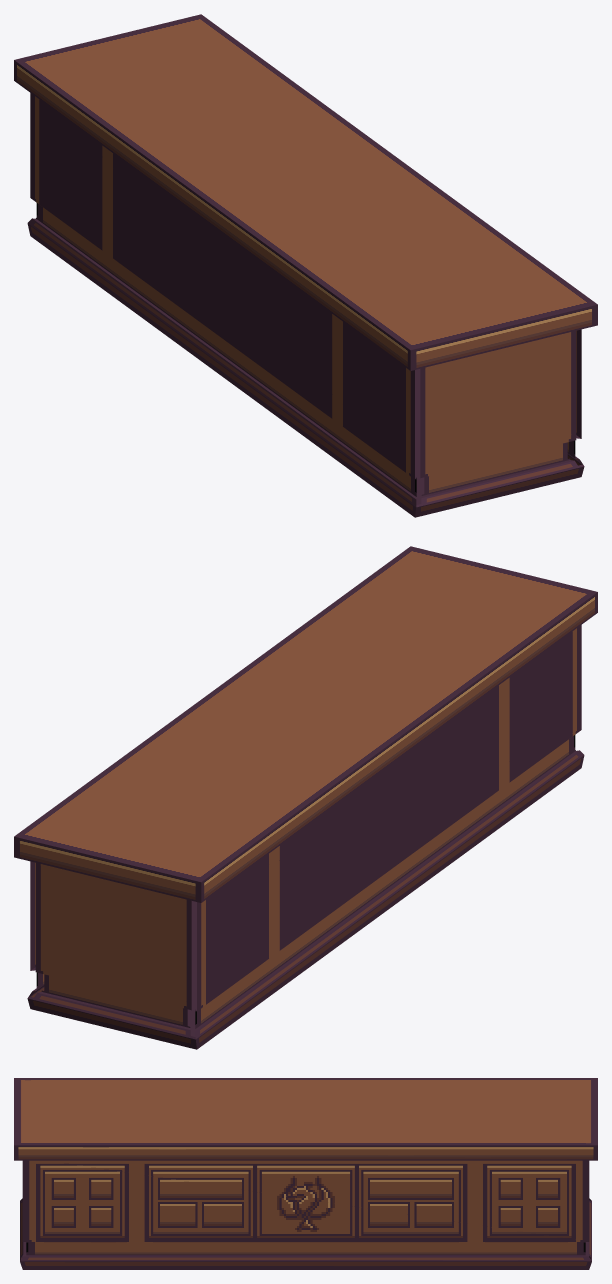
The model's file is frontDesk2.fbx.
The picture shows the model from 3 angles, top to bottom: view 1: azimuth 30°, elevation 25°; view 2: azimuth 150°, elevation 25°; view 3: azimuth 270°, elevation 25°; orthographic projection. The views are drawn at different scales.
Parts seen in each view (by area): view 1: Cube; view 2: Cube; view 3: Cube.
Part boxes in pixels (x1,y1,x2,y2): Cube: (14,14,597,517); Cube: (14,546,597,1049); Cube: (14,1078,597,1269).
Bounding box in the file's own units: 225 × 200 × 825.
Materials: 5 (5 with a texture image).
